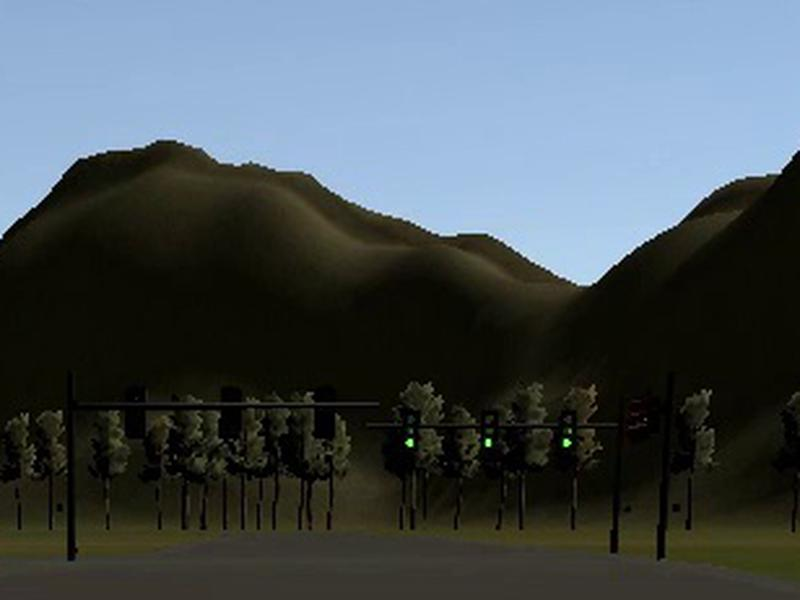Green: (558, 410, 577, 453), (401, 411, 419, 452), (481, 411, 498, 452)
